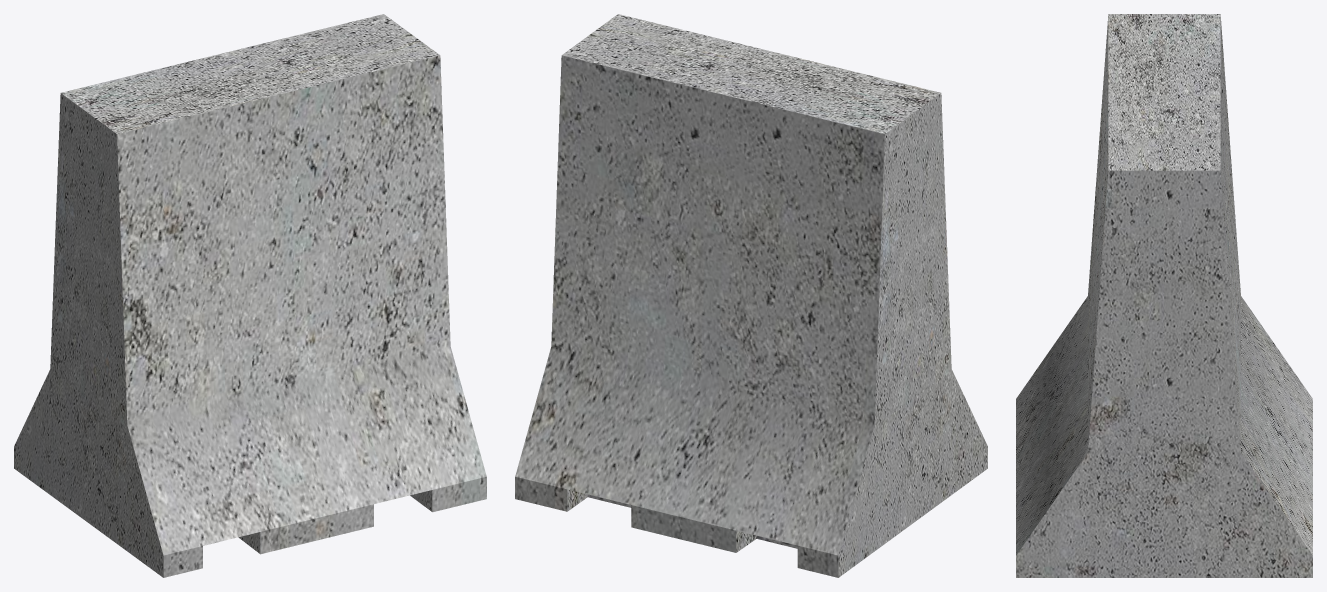
File: block.fbx
The picture shows the model from 3 angles, left to right: view 1: azimuth 30°, elevation 25°; view 2: azimuth 150°, elevation 25°; view 3: azimuth 270°, elevation 25°; orthographic projection.
Visible parts, largest first — view 1: block; view 2: block; view 3: block.
Boxes of the visible parts, bbox=[...] form: block: bbox=[14, 14, 486, 577]; block: bbox=[515, 14, 987, 577]; block: bbox=[1016, 14, 1312, 577].
Bounding box in the file's own units: 7.17 × 8.68 × 5.73.
1 material, 1 textured.
